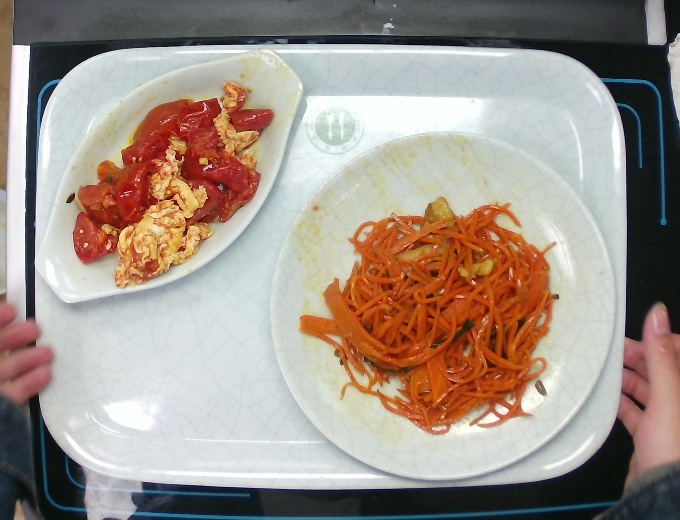JYsf-Da_Yuan_Pan: (260, 120, 623, 485)
JYsf-Yu_Pan: (29, 45, 308, 309)
